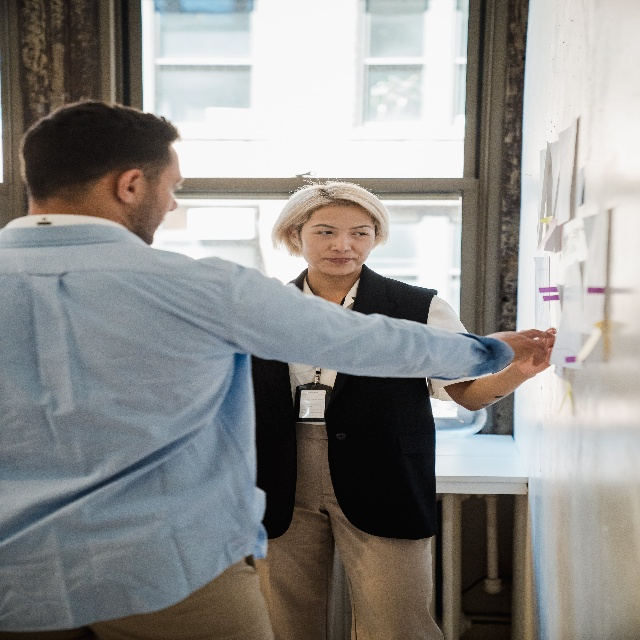Sin_guantes: (496, 322, 549, 364)
